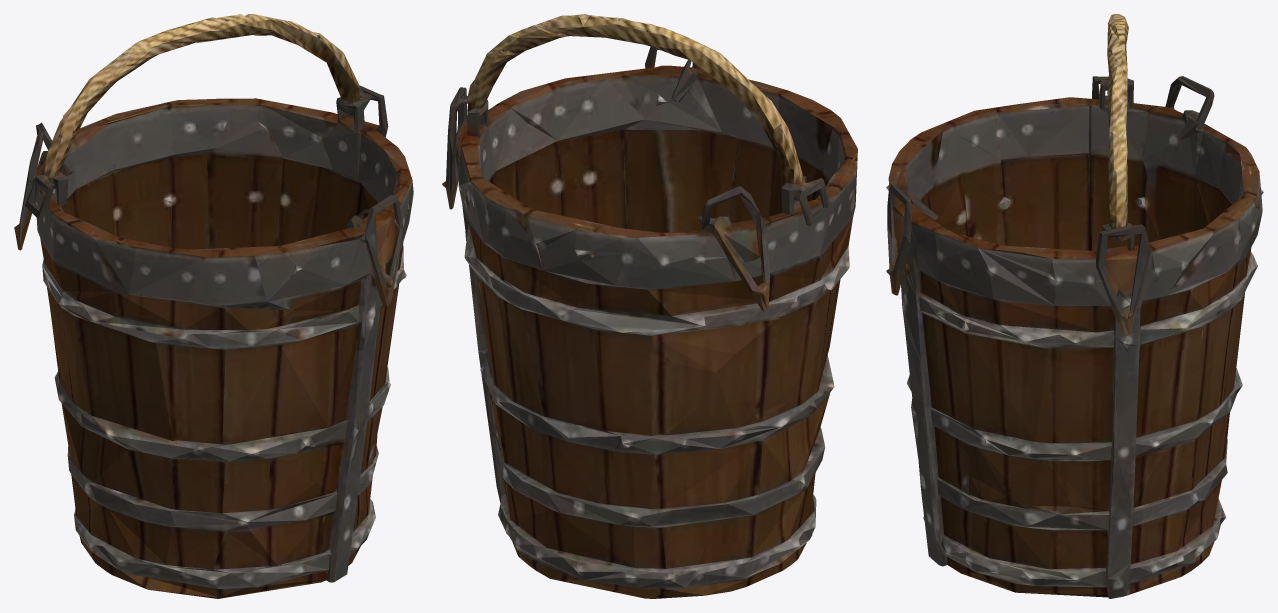
Rendered from prop_bucket_wood_01.glb.
3 views of the same model, side by side, from view 1: azimuth 30°, elevation 25°; view 2: azimuth 150°, elevation 25°; view 3: azimuth 270°, elevation 25° (orthographic). The views are drawn at different scales.
Visible parts, largest first — view 1: geometry_0; view 2: geometry_0; view 3: geometry_0.
Boxes of the visible parts, x1,y1,x2,y2 form: geometry_0: (14,14,413,598); geometry_0: (442,14,857,598); geometry_0: (886,14,1263,598).
Bounding box in the file's own units: 0.7328 × 0.9993 × 0.6824.
1 material, 1 textured.
